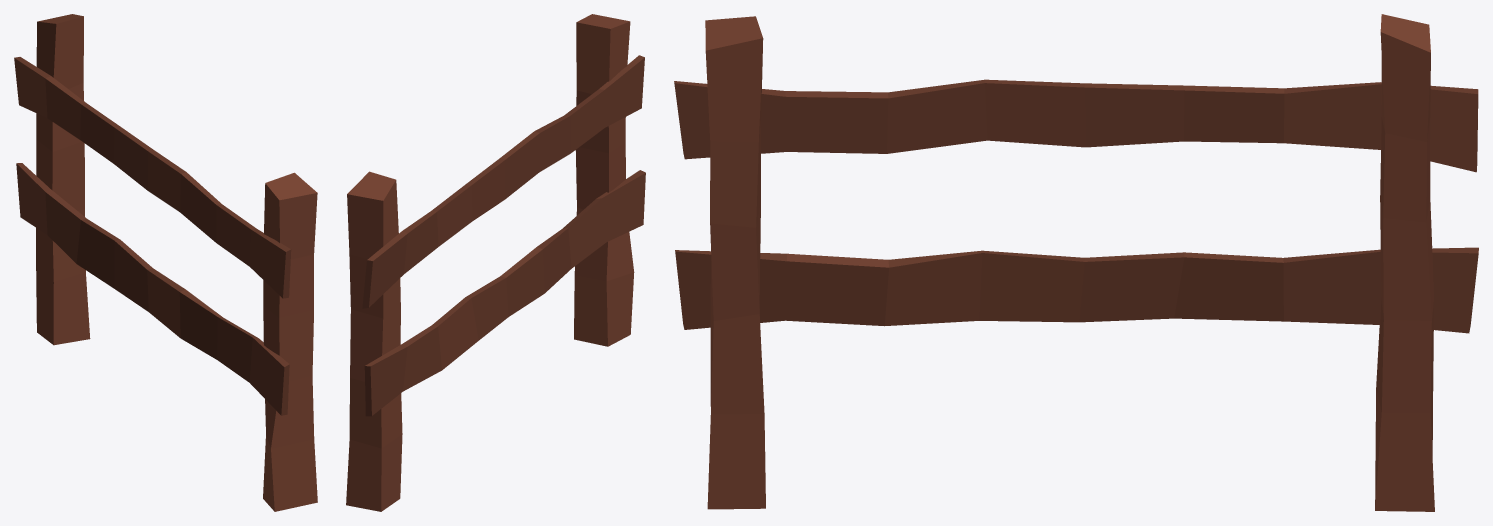
File: cerca_two.fbx
3 renders of one model, left to right at view 1: azimuth 30°, elevation 25°; view 2: azimuth 150°, elevation 25°; view 3: azimuth 270°, elevation 25°, orthographic. The views are drawn at different scales.
Parts seen in each view (by area): view 1: Cube.001, Cube; view 2: Cube.001, Cube; view 3: Cube.001, Cube.
Part boxes in pixels (left/top/right/bottom): Cube.001: left=14, top=57, right=291, bottom=415; Cube: left=36, top=14, right=317, bottom=511; Cube.001: left=362, top=55, right=645, bottom=416; Cube: left=346, top=14, right=634, bottom=511; Cube.001: left=674, top=79, right=1478, bottom=333; Cube: left=705, top=14, right=1434, bottom=511.
Bounding box in the file's own units: 55.02 × 368 × 564.
